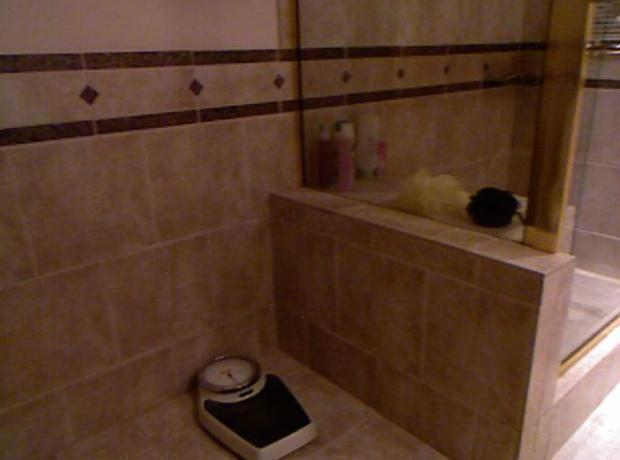Ducha: (298, 7, 616, 456)
Otro Obstaculo: (188, 351, 321, 458)
